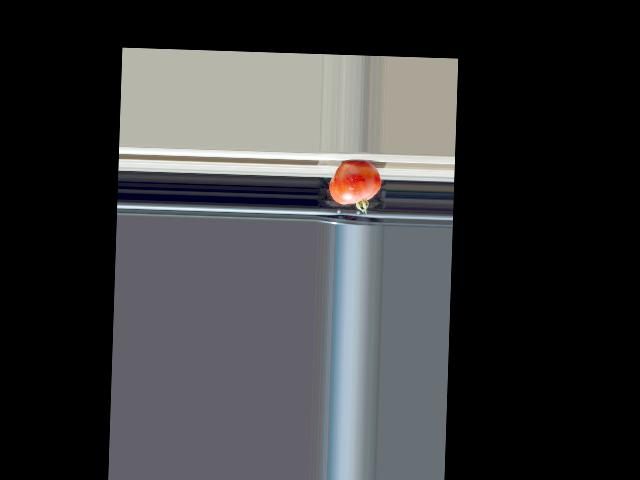tomato: (329, 160, 381, 214)
